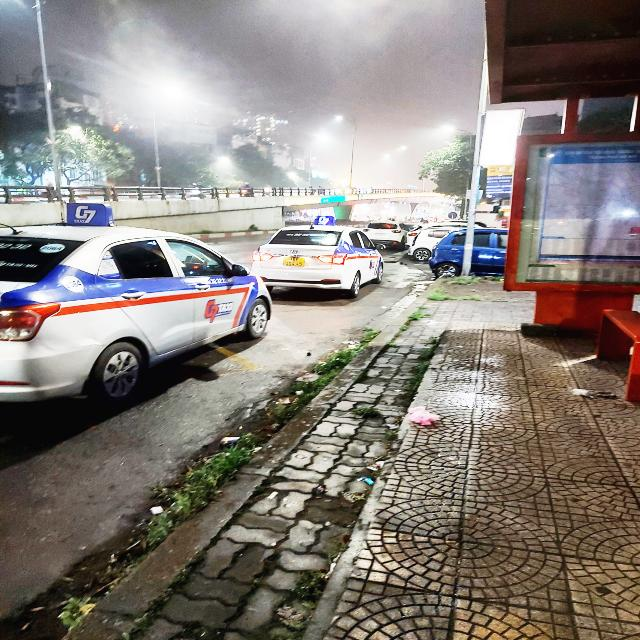license_plate: (283, 258, 306, 268)
